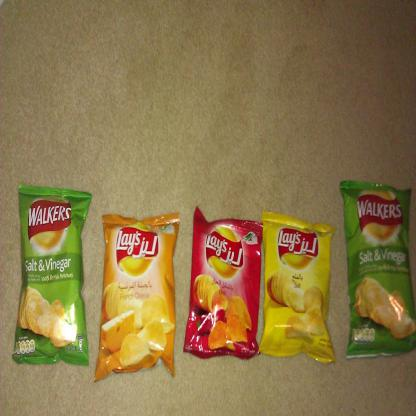potatochip: (92, 208, 182, 387), (11, 180, 94, 370), (336, 172, 415, 364), (181, 201, 266, 365), (256, 205, 338, 373)
